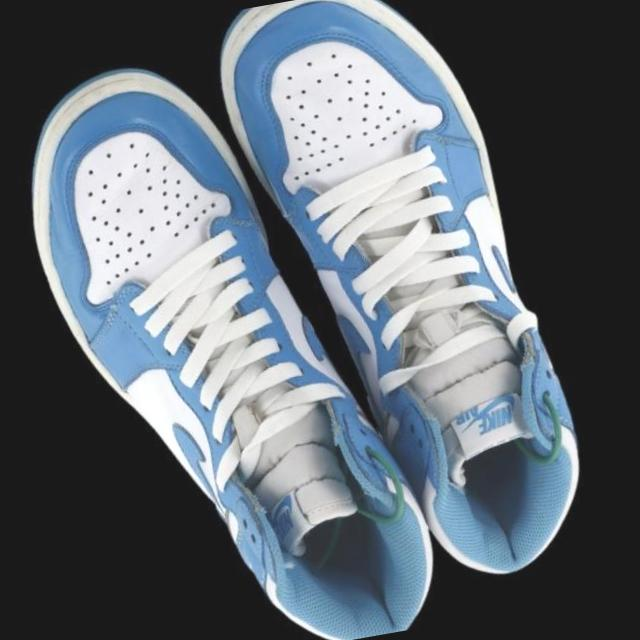nike_original_jordan: (0, 1, 467, 640), (183, 0, 640, 625)
